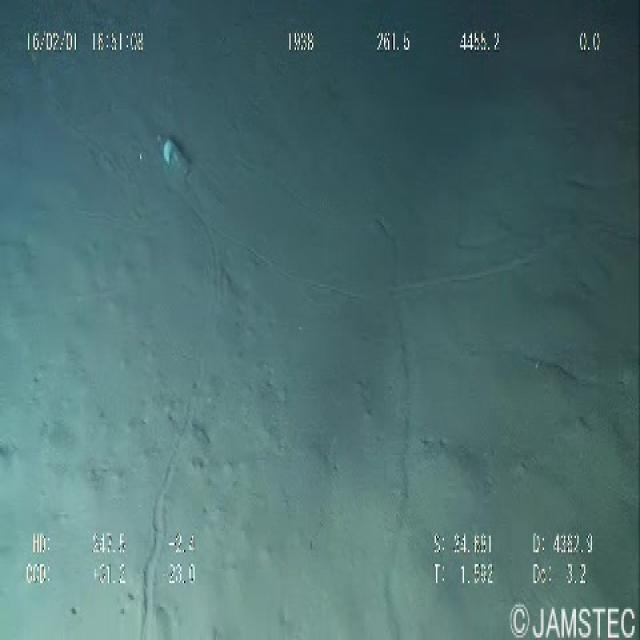plastic: (146, 126, 202, 197)
